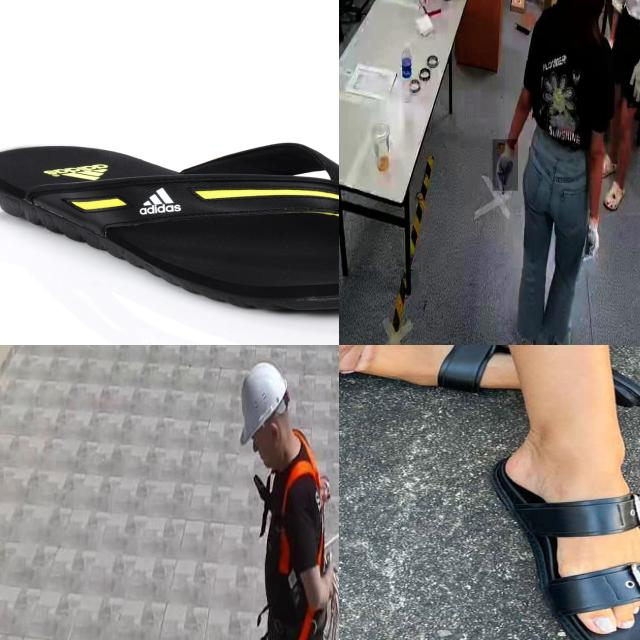Harness: (264, 435, 339, 640)
Sandals: (0, 139, 339, 317), (485, 425, 640, 640)
hand_glove: (492, 139, 518, 192), (578, 215, 602, 271), (627, 53, 640, 109)
person: (505, 0, 610, 345), (607, 0, 640, 216)
shoes: (514, 303, 539, 345), (546, 314, 575, 345)
